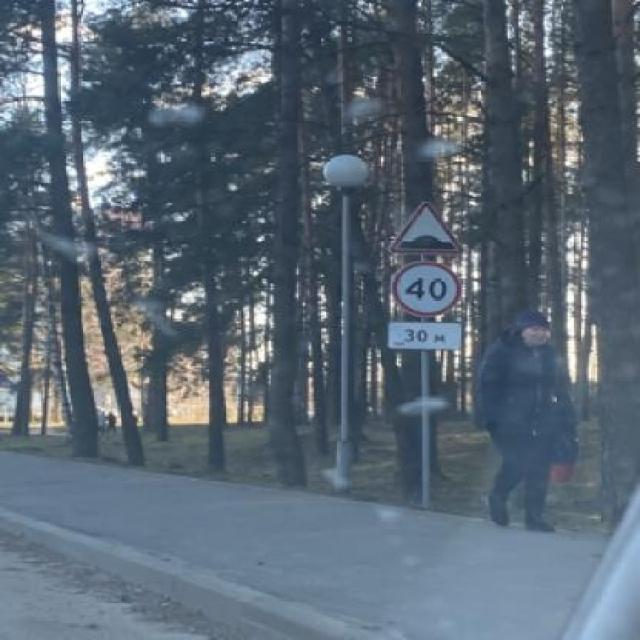forb_speed_over_40: (392, 261, 463, 316)
